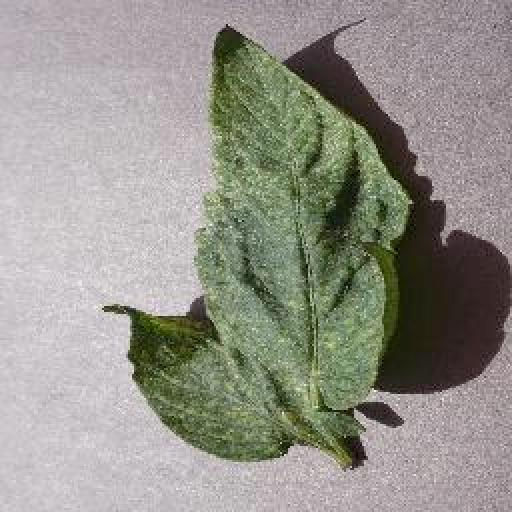disease_tomato: (102, 26, 414, 462)
